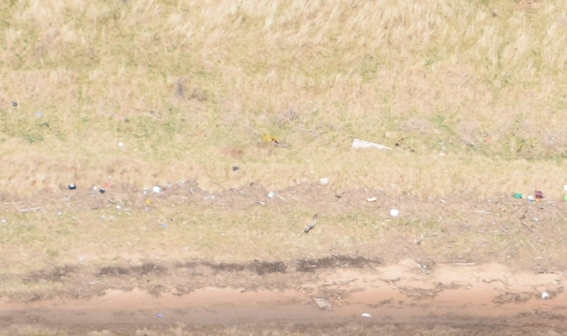scattered_barrel: (6, 92, 179, 232), (225, 127, 410, 237), (489, 168, 567, 235)
